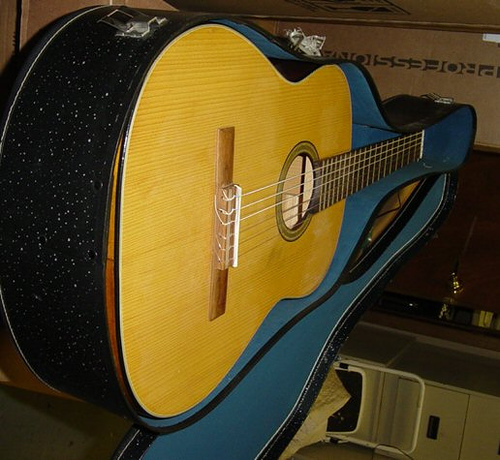guitar: (1, 6, 429, 420)
